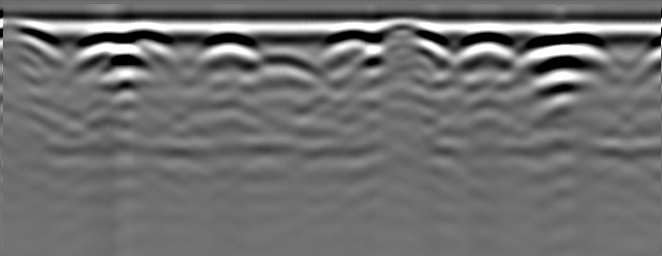pipe: (1, 22, 58, 49), (377, 23, 426, 41)
steel: (531, 36, 599, 71), (322, 31, 379, 66), (197, 39, 259, 69), (458, 34, 512, 68), (78, 39, 136, 69), (254, 51, 313, 78)
